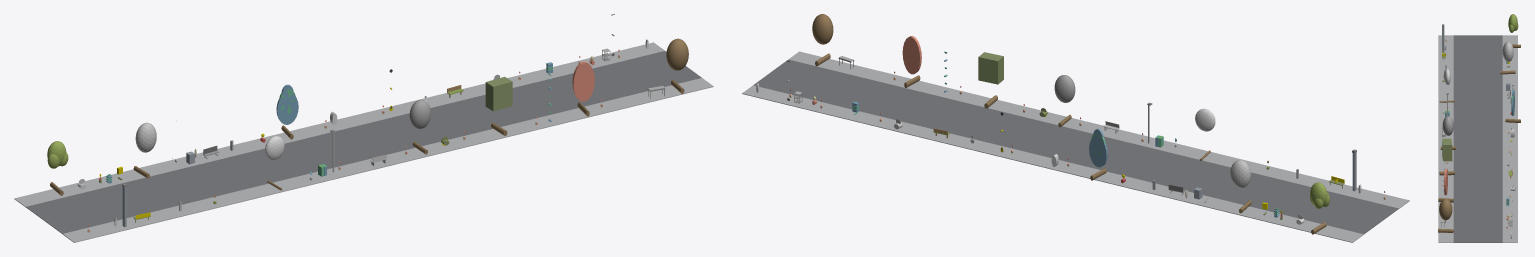
3 renders of one model, left to right at view 1: azimuth 30°, elevation 25°; view 2: azimuth 150°, elevation 25°; view 3: azimuth 270°, elevation 25°, orthographic. The views are drawn at different scales.
Parts seen in each view (by area): view 1: road_slab, sidewalk_left, sidewalk_right, inst_0023, inst_0024, inst_0021, inst_0025, inst_0019, inst_0022, inst_0018, inst_0020; view 2: road_slab, sidewalk_right, sidewalk_left, inst_0023, inst_0024, inst_0021, inst_0025, inst_0022, inst_0019, inst_0018, inst_0020; view 3: road_slab, sidewalk_right, sidewalk_left, inst_0023, inst_0025, inst_0019, inst_0022, inst_0018, inst_0021, inst_0024, inst_0020, inst_0006.
Part boxes in pixels (x1,y1,x2,y2): road_slab: (26,51,701,233); sidewalk_left: (62,78,713,242); sidewalk_right: (14,42,664,207); inst_0023: (485,76,512,135); inst_0024: (572,61,594,116); inst_0021: (276,84,298,139); inst_0025: (666,38,688,93); inst_0019: (133,122,156,178); inst_0022: (409,99,430,154); inst_0018: (47,141,68,195); inst_0020: (265,136,284,190); road_slab: (753,59,1398,234); sidewalk_right: (742,85,1363,242); sidewalk_left: (788,51,1409,208); inst_0023: (978,52,1003,108); inst_0024: (902,36,921,87); inst_0021: (1089,128,1107,180); inst_0025: (812,14,833,66); inst_0022: (1054,75,1075,127); inst_0019: (1230,160,1251,213); inst_0018: (1310,182,1329,234); inst_0020: (1195,108,1215,160); road_slab: (1453,35,1502,242); sidewalk_right: (1502,35,1517,242); sidewalk_left: (1438,35,1453,242); inst_0023: (1439,138,1454,175); inst_0025: (1438,199,1453,232); inst_0019: (1500,42,1515,74); inst_0022: (1440,116,1455,149); inst_0018: (1508,14,1520,47); inst_0021: (1505,89,1520,122); inst_0024: (1438,168,1453,202); inst_0020: (1439,68,1454,102); inst_0006: (1442,24,1444,52).
Size of the model in its own units: 80 by 6.08 by 13.52.
